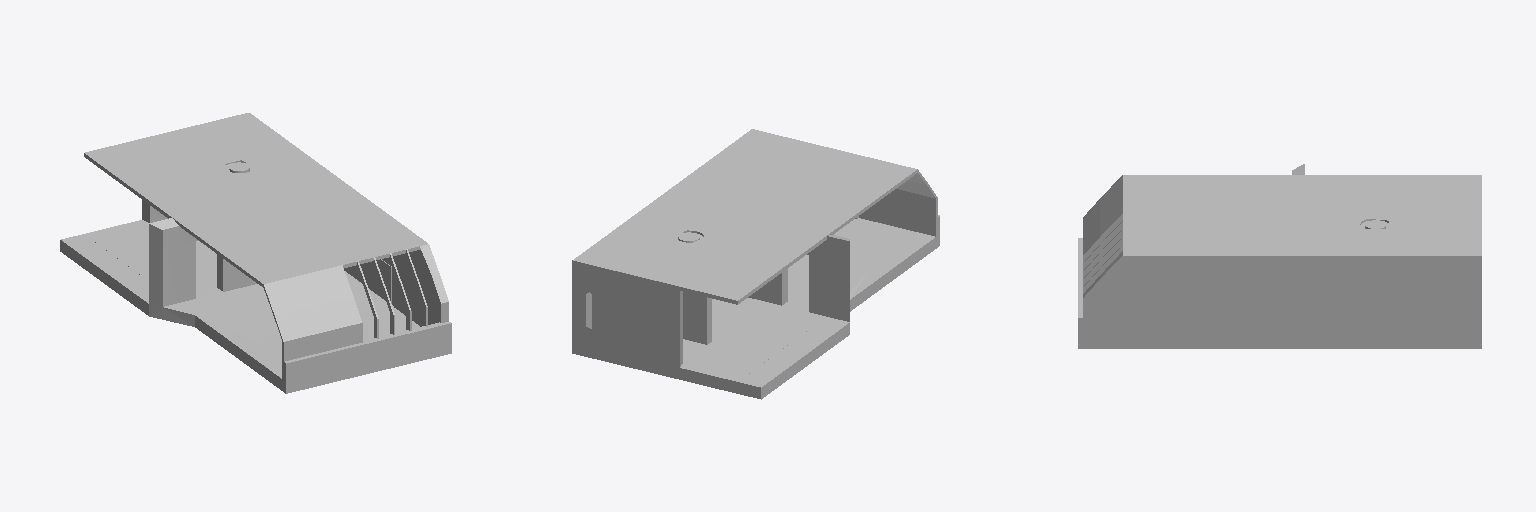
Rendered from galley.obj.
3 views of the same model, side by side, from view 1: azimuth 30°, elevation 25°; view 2: azimuth 150°, elevation 25°; view 3: azimuth 270°, elevation 25° (orthographic).
Visible parts, largest first — view 1: pPlane34; view 2: pPlane34; view 3: pPlane34.
Part boxes in pixels (bbox=[...]): pPlane34: bbox=[60, 113, 451, 393]; pPlane34: bbox=[572, 129, 939, 399]; pPlane34: bbox=[1078, 164, 1481, 348].
Bounding box in the file's own units: 141 × 66.41 × 261.